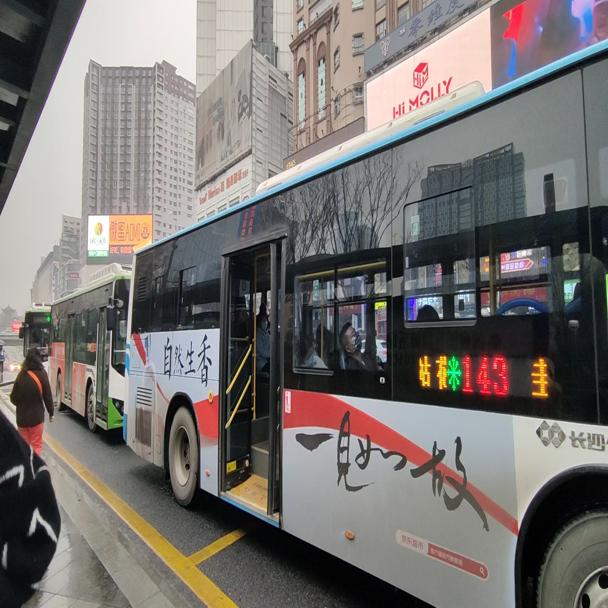bus: (123, 56, 607, 605), (49, 264, 130, 433), (18, 304, 50, 383)
screen: (463, 355, 509, 396)
